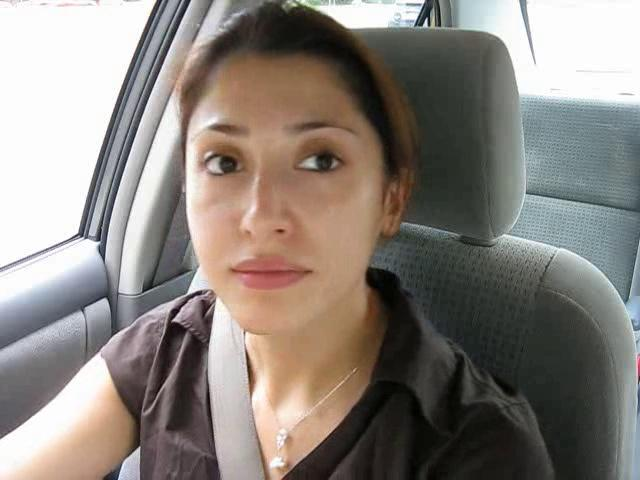no_yawn: (211, 244, 327, 305)
open_eyeL: (184, 138, 262, 192)
open_eyeR: (281, 138, 361, 189)
